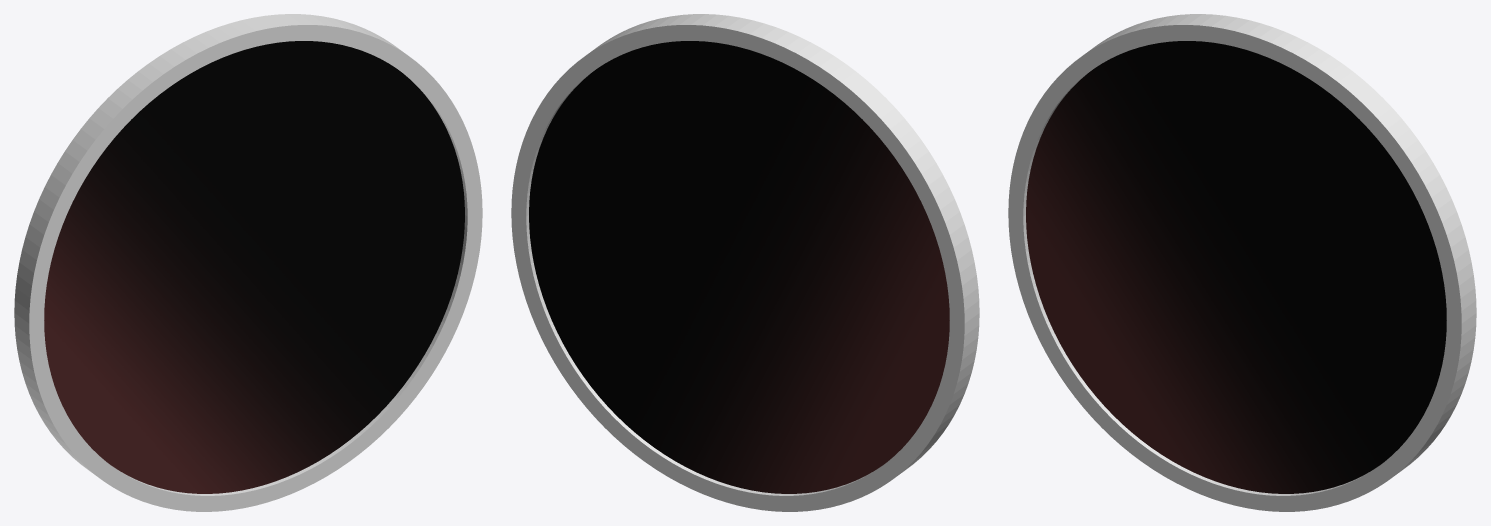
The model's file is coin.glb.
The picture shows the model from 3 angles, left to right: view 1: azimuth 30°, elevation 25°; view 2: azimuth 150°, elevation 25°; view 3: azimuth 330°, elevation 25°; orthographic projection.
Parts seen in each view (by area): view 1: Cylinder; view 2: Cylinder; view 3: Cylinder.
Boxes of the visible parts, <box> form: Cylinder: <box>14,14,482,511</box>; Cylinder: <box>511,14,979,511</box>; Cylinder: <box>1008,14,1476,511</box>.
Bounding box in the file's own units: 2 × 2 × 0.1137.
Materials: 2 (1 with a texture image).
